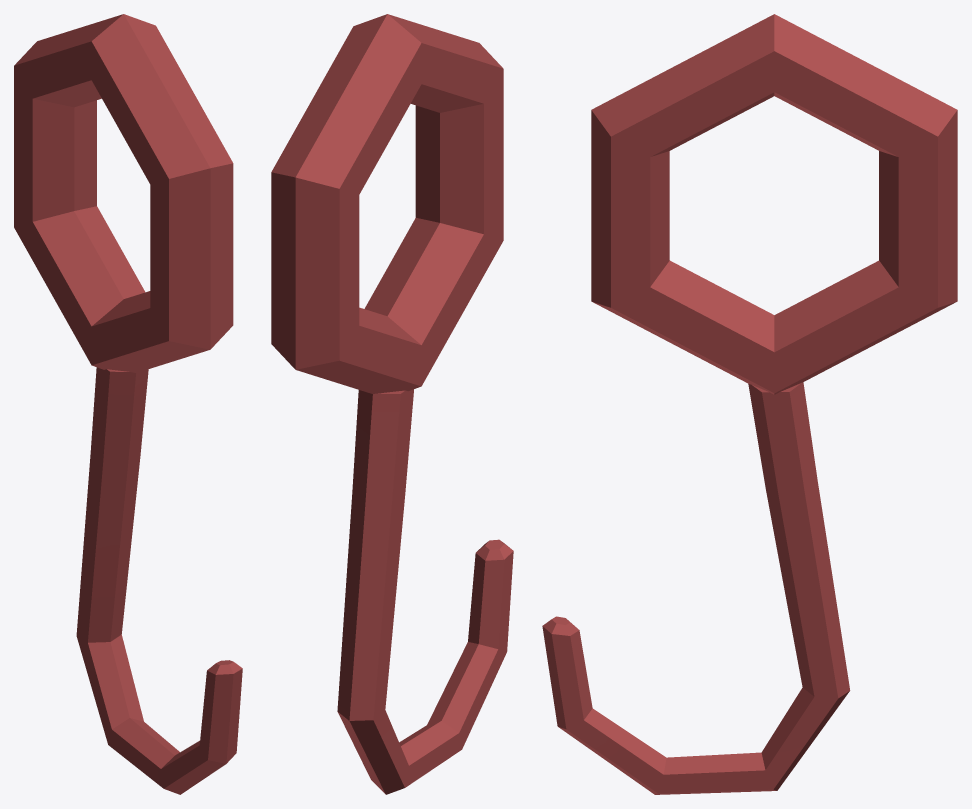
Rendered from seguranca-obj_gancho.fbx.
3 renders of one model, left to right at view 1: azimuth 30°, elevation 25°; view 2: azimuth 150°, elevation 25°; view 3: azimuth 270°, elevation 25°, orthographic. The views are drawn at different scales.
Parts seen in each view (by area): view 1: Gancho; view 2: Gancho; view 3: Gancho.
Boxes of the visible parts, left/top/right/bottom form: Gancho: left=14, top=14, right=242, bottom=794; Gancho: left=271, top=14, right=513, bottom=794; Gancho: left=542, top=14, right=957, bottom=794.
Bounding box in the file's own units: 0.6235 × 6.85 × 3.3.
